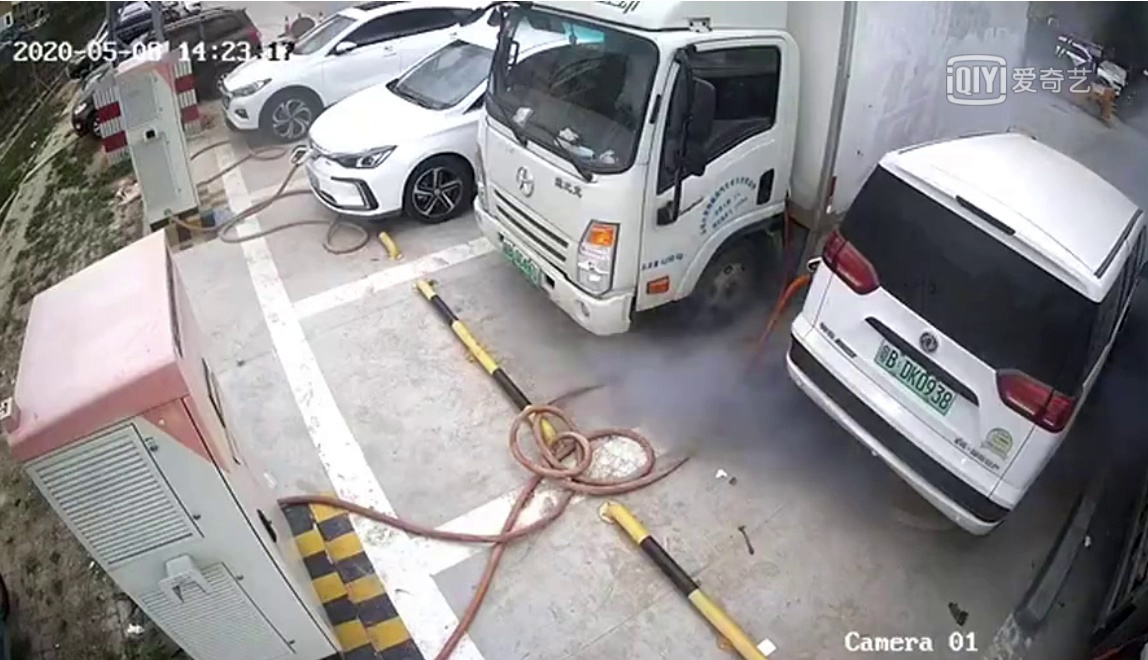smoke: (599, 326, 794, 459)
